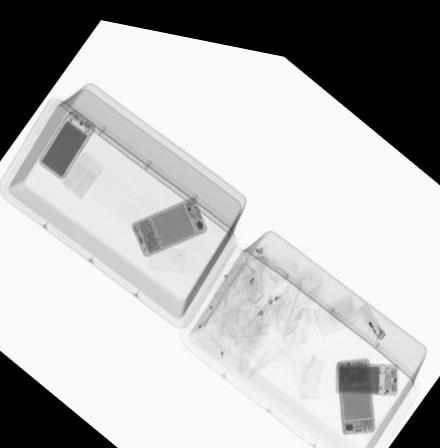Lighter: (355, 287, 386, 326)
